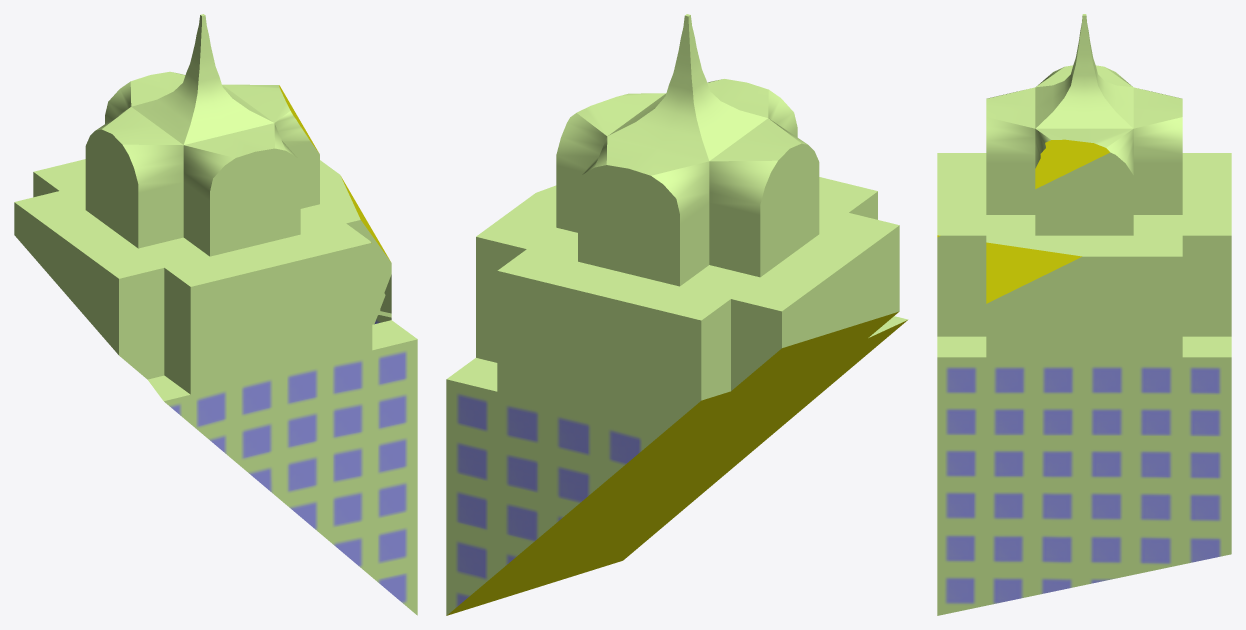
File: cbShard2.fbx
The picture shows the model from 3 angles, left to right: view 1: azimuth 30°, elevation 25°; view 2: azimuth 150°, elevation 25°; view 3: azimuth 270°, elevation 25°; orthographic projection. The views are drawn at different scales.
Parts seen in each view (by area): view 1: shard21; view 2: shard21; view 3: shard21.
Part boxes in pixels (x1,y1,x2,y2): shard21: (14, 14, 417, 615); shard21: (446, 14, 907, 615); shard21: (937, 14, 1231, 615).
Bounding box in the file's own units: 0.0715 × 0.1444 × 0.0715.
Materials: 2 (1 with a texture image).
